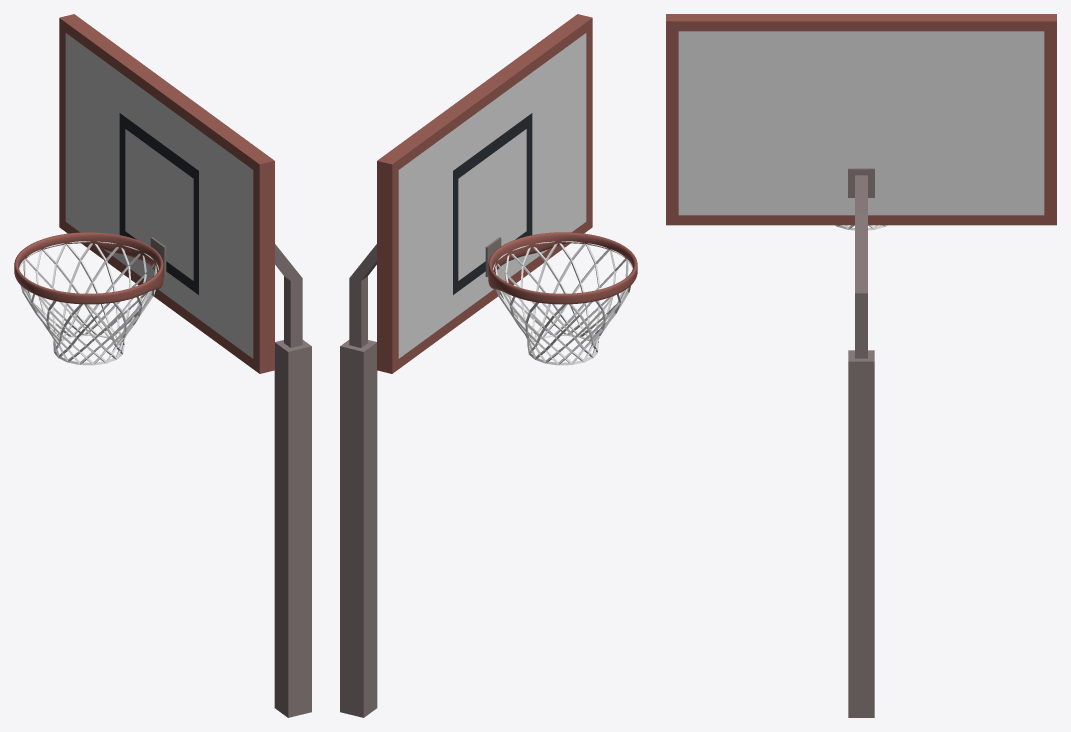
Rendered from Basketball_Court -3D.fbx.
3 renders of one model, left to right at view 1: azimuth 30°, elevation 25°; view 2: azimuth 150°, elevation 25°; view 3: azimuth 270°, elevation 25°, orthographic. The views are drawn at different scales.
Visible parts, largest first — view 1: Basketball_Stand; view 2: Basketball_Stand; view 3: Basketball_Stand.
Part boxes in pixels (x1,y1,x2,y2): Basketball_Stand: (14,14,311,717); Basketball_Stand: (340,14,637,717); Basketball_Stand: (666,14,1056,717).
Size of the model in its own units: 48.15 by 107 by 59.56.
